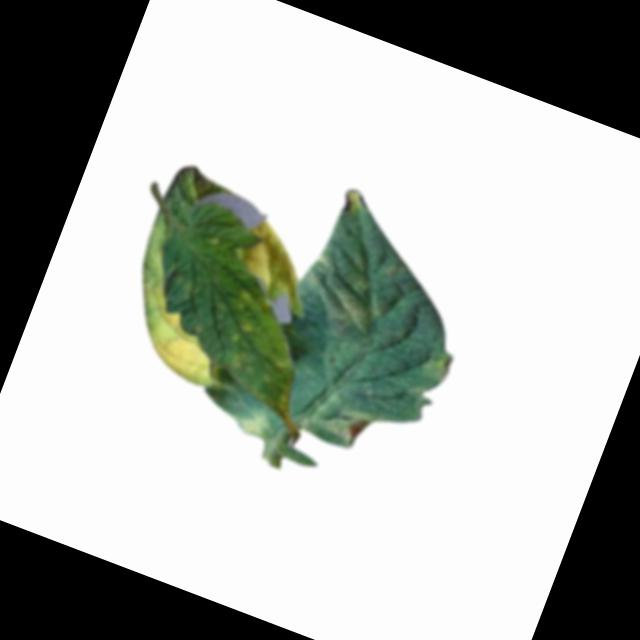Leaf_Mold: (214, 296, 319, 417), (124, 281, 238, 390), (231, 217, 312, 304), (325, 276, 388, 336), (316, 396, 374, 453), (417, 342, 458, 386), (237, 405, 274, 443)
